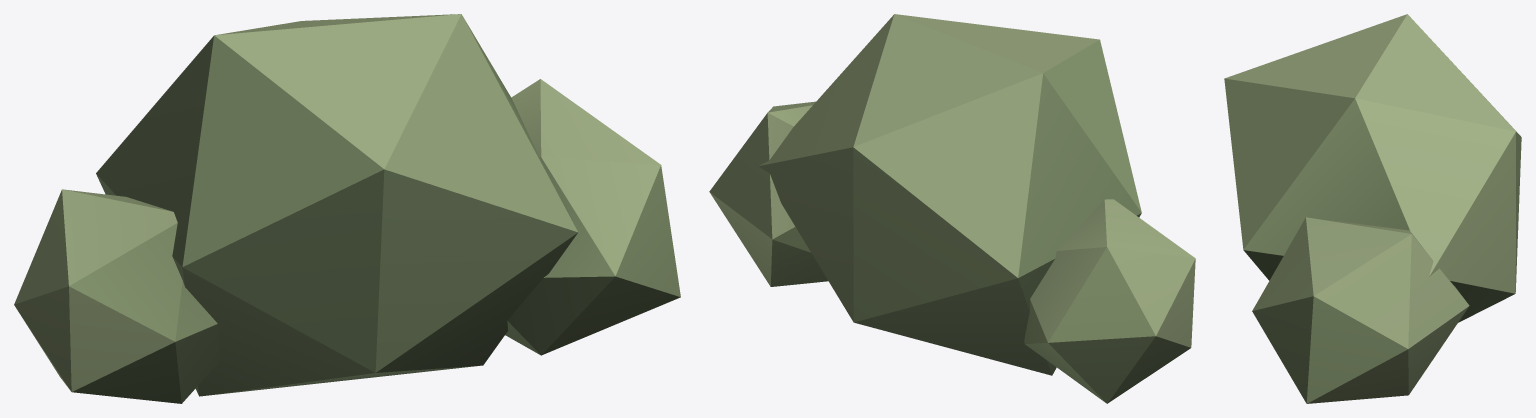
The model's file is bush.lod2.glb.
3 views of the same model, side by side, from view 1: azimuth 30°, elevation 25°; view 2: azimuth 150°, elevation 25°; view 3: azimuth 270°, elevation 25° (orthographic). The views are drawn at different scales.
Bounding box in the file's own units: 2.03 × 1.23 × 1.2.
